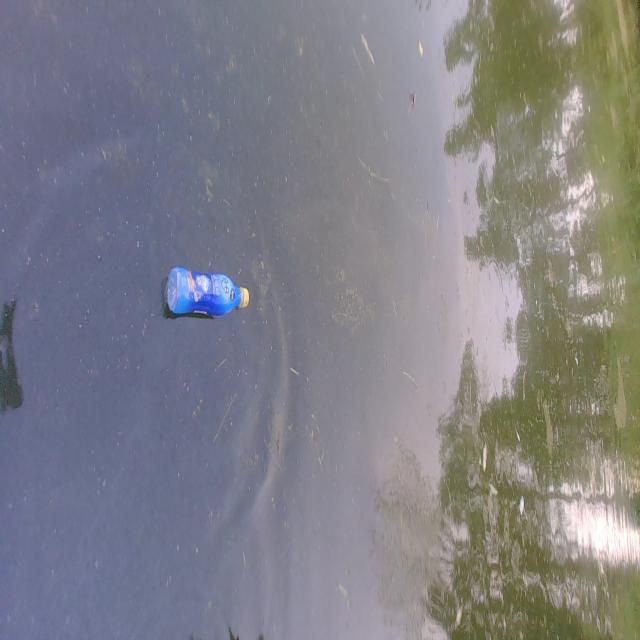garbage: (165, 265, 249, 317)
